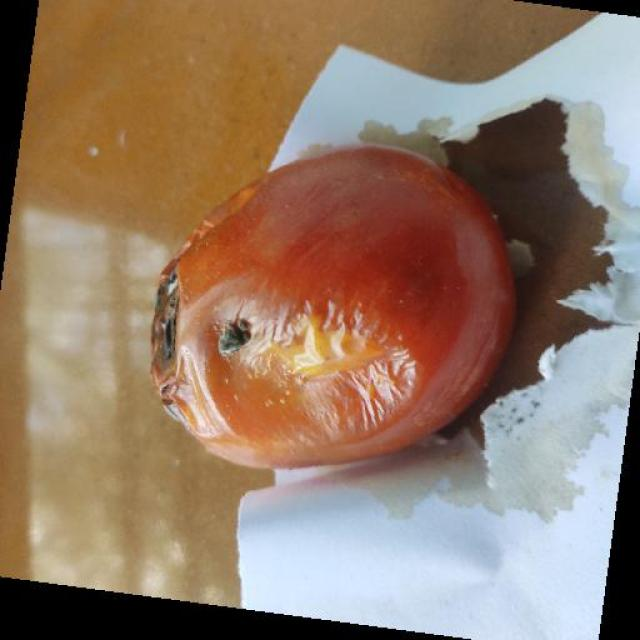Stale_tomato: (126, 172, 568, 489)
